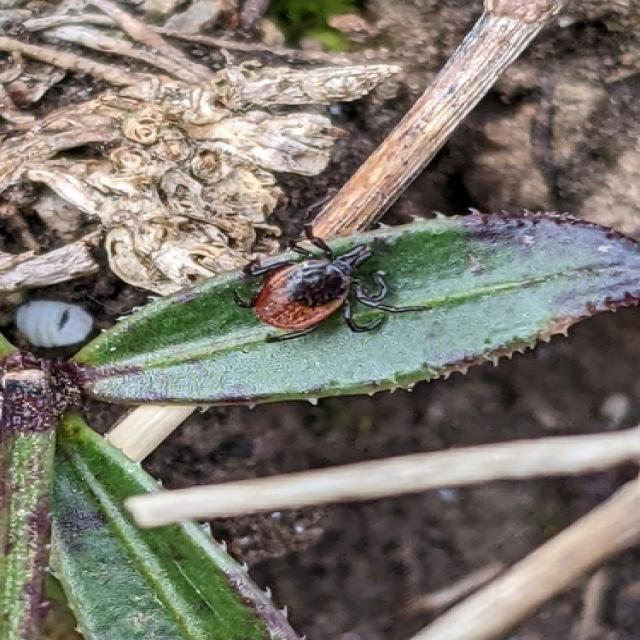Ixodes Ricinus-F: (224, 224, 433, 343)
